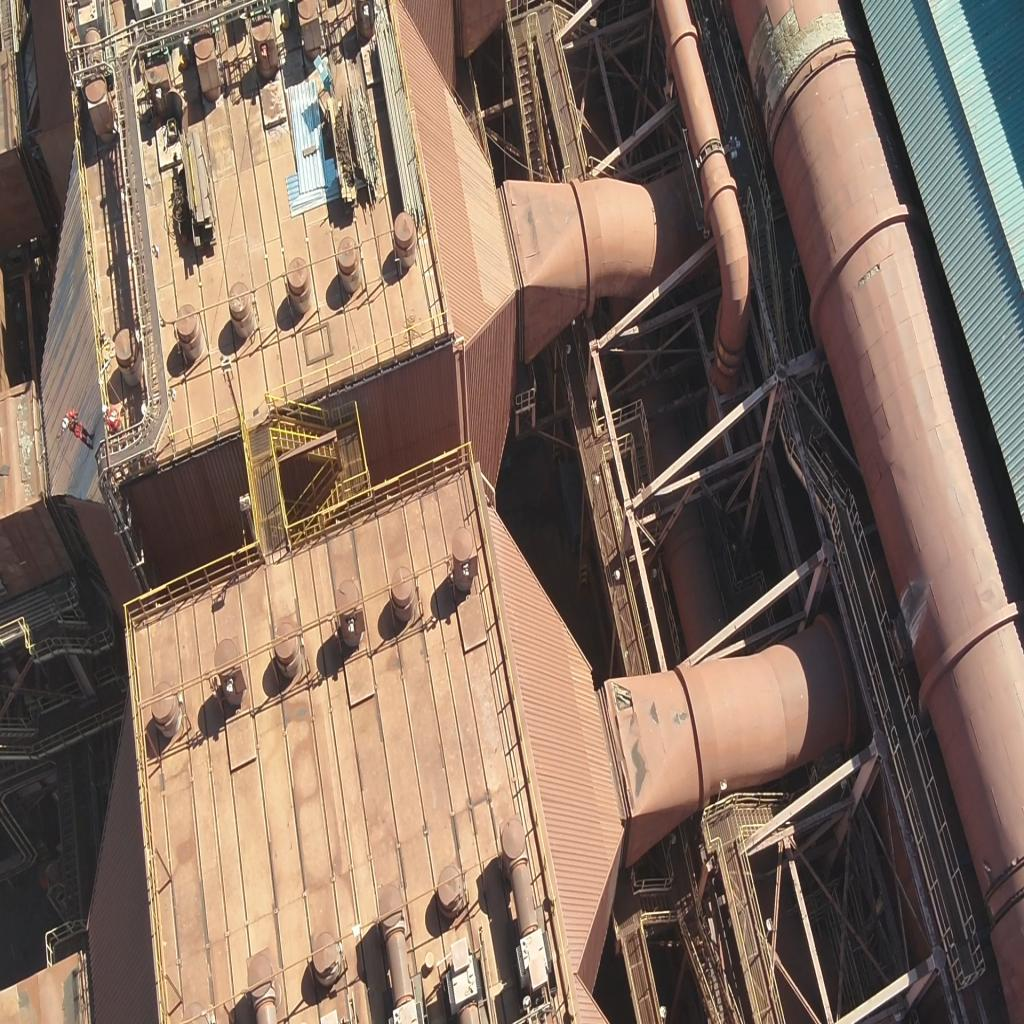Failures: (613, 681, 632, 710)
